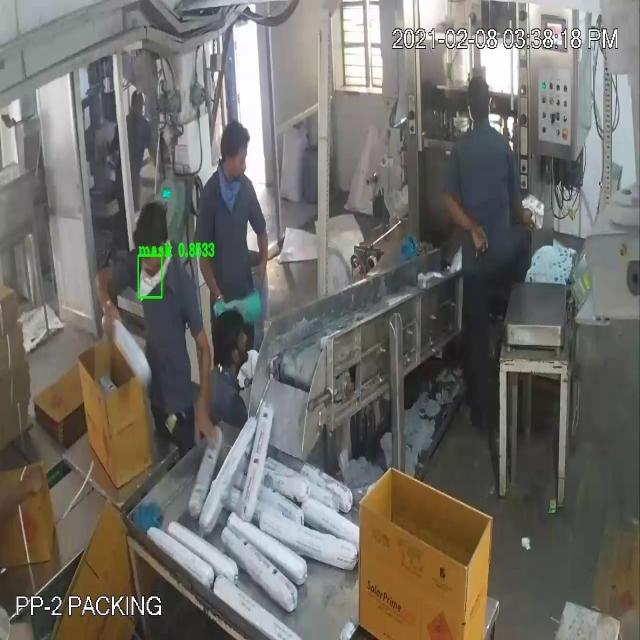No_Gloves: (32, 71, 470, 375)
